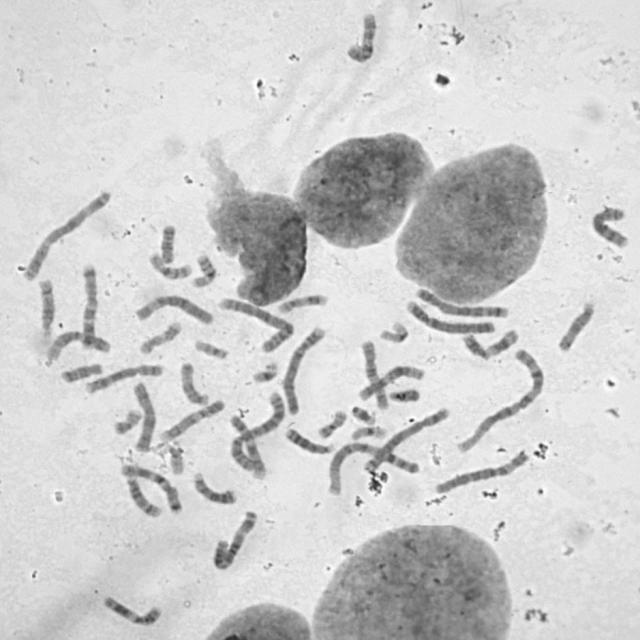A1: (453, 344, 548, 454), (323, 438, 422, 497)
A2: (226, 387, 286, 473), (215, 293, 296, 355)
A3: (19, 184, 114, 283), (208, 506, 260, 572)
B4: (280, 322, 326, 416), (401, 296, 497, 336)
B5: (359, 403, 453, 473), (412, 284, 511, 319)
C10: (357, 336, 391, 412), (343, 8, 379, 64)
C11: (100, 591, 164, 628), (459, 326, 520, 360)
C12: (355, 362, 426, 401), (43, 328, 113, 363)
C6: (432, 447, 532, 495), (131, 290, 217, 327)
C7: (117, 460, 184, 516), (76, 260, 100, 352)
C8: (82, 360, 166, 395), (587, 202, 630, 250)
C9: (156, 395, 226, 442), (225, 410, 267, 480)
D13: (190, 468, 240, 507), (282, 423, 338, 456)
D14: (122, 470, 164, 519), (34, 275, 57, 337)
D15: (554, 297, 597, 353), (177, 358, 211, 407)
E16: (144, 248, 195, 281), (188, 249, 218, 289)
E17: (136, 317, 183, 356), (274, 290, 330, 315)
E18: (57, 360, 105, 384), (156, 220, 178, 265)
F19: (376, 317, 411, 344), (348, 422, 388, 442)
F20: (314, 406, 349, 439), (110, 405, 144, 436)
G21: (249, 357, 280, 385), (348, 401, 378, 427)
G22: (191, 336, 230, 361), (166, 438, 186, 477)
X: (129, 379, 157, 453)
Y: (385, 384, 422, 404)
